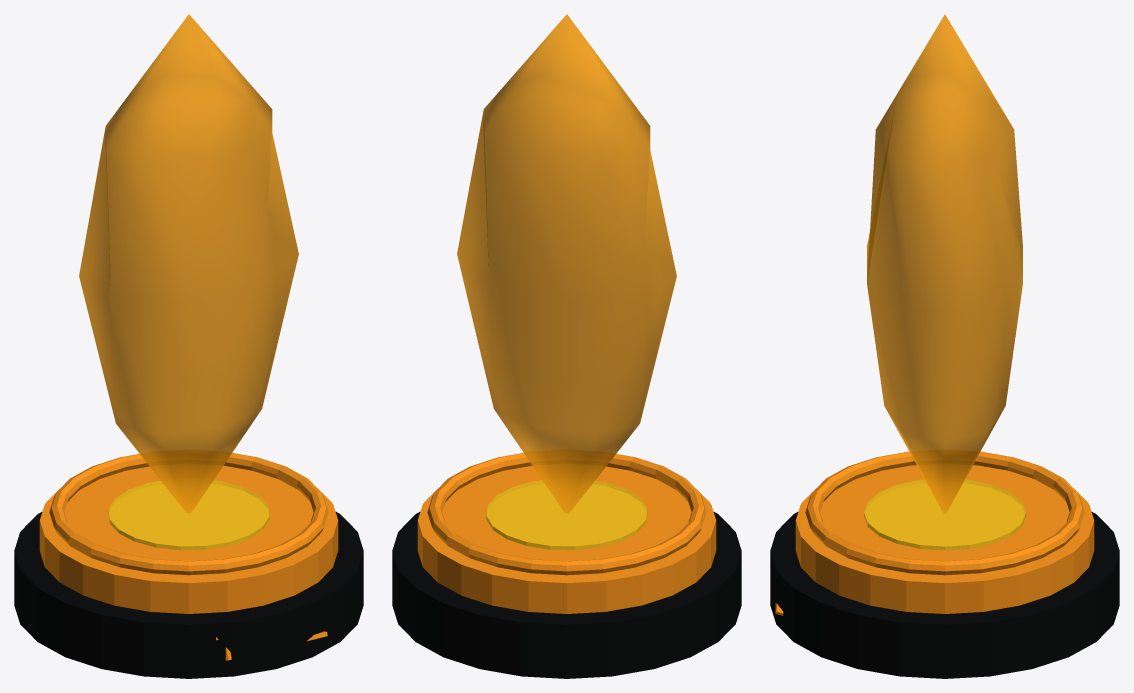
The model's file is topaz_shard.obj.
3 renders of one model, left to right at view 1: azimuth 30°, elevation 25°; view 2: azimuth 150°, elevation 25°; view 3: azimuth 270°, elevation 25°, orthographic.
Visible parts, largest first — view 1: topaz_crystal_body, topaz_display_base_black_gold, topaz_display_base_top, topaz_colored_light_pad, topaz_gold_base_ring; view 2: topaz_crystal_body, topaz_display_base_black_gold, topaz_display_base_top, topaz_colored_light_pad, topaz_gold_base_ring; view 3: topaz_crystal_body, topaz_display_base_black_gold, topaz_display_base_top, topaz_colored_light_pad, topaz_gold_base_ring.
Part boxes in pixels (left/top/right/bottom): topaz_crystal_body: left=79, top=14, right=298, bottom=514; topaz_display_base_black_gold: left=14, top=512, right=363, bottom=678; topaz_display_base_top: left=39, top=465, right=338, bottom=613; topaz_colored_light_pad: left=108, top=480, right=269, bottom=550; topaz_gold_base_ring: left=49, top=453, right=328, bottom=575; topaz_crystal_body: left=457, top=14, right=676, bottom=514; topaz_display_base_black_gold: left=392, top=512, right=741, bottom=678; topaz_display_base_top: left=417, top=465, right=716, bottom=613; topaz_colored_light_pad: left=486, top=480, right=647, bottom=550; topaz_gold_base_ring: left=427, top=453, right=706, bottom=575; topaz_crystal_body: left=867, top=14, right=1022, bottom=514; topaz_display_base_black_gold: left=770, top=512, right=1119, bottom=678; topaz_display_base_top: left=795, top=465, right=1094, bottom=613; topaz_colored_light_pad: left=864, top=479, right=1025, bottom=550; topaz_gold_base_ring: left=805, top=451, right=1084, bottom=575.
Size of the model in its own units: 1.64 by 3.06 by 1.64.
